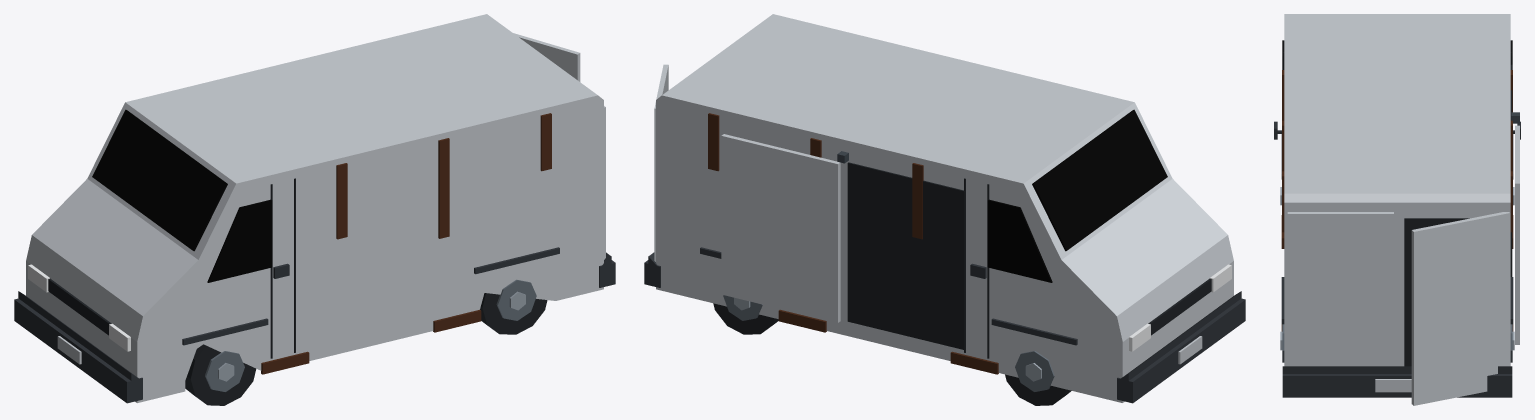
File: prop_car_van.fbx
3 renders of one model, left to right at view 1: azimuth 30°, elevation 25°; view 2: azimuth 150°, elevation 25°; view 3: azimuth 270°, elevation 25°, orthographic.
Parts seen in each view (by area): view 1: prop_car_van; view 2: prop_car_van; view 3: prop_car_van.
Boxes of the visible parts, <box> form: prop_car_van: <box>14,14,615,405</box>; prop_car_van: <box>644,14,1245,405</box>; prop_car_van: <box>1274,14,1520,405</box>.
Bounding box in the file's own units: 1781 × 720 × 720.
